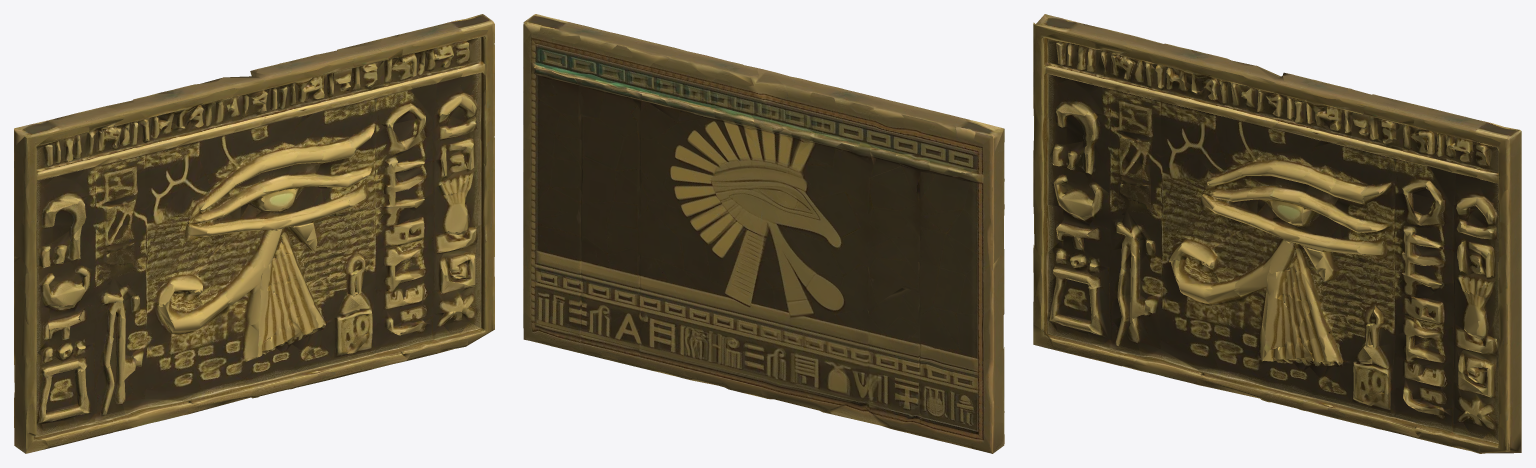
File: egypt_wall_v2.glb
The picture shows the model from 3 angles, left to right: view 1: azimuth 30°, elevation 25°; view 2: azimuth 150°, elevation 25°; view 3: azimuth 330°, elevation 25°; orthographic projection.
Bounding box in the file's own units: 1.91 × 1.24 × 0.1223.
Materials: 1 (1 with a texture image).
